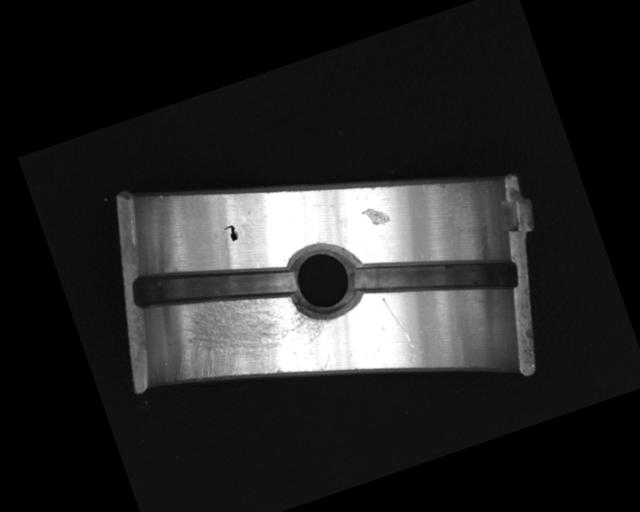blot: (222, 222, 240, 244)
bruise: (361, 202, 392, 231)
gap: (349, 217, 521, 335), (127, 228, 300, 345)
hole: (278, 234, 365, 326)
nick: (381, 293, 414, 351)
scratch: (155, 256, 343, 414)
